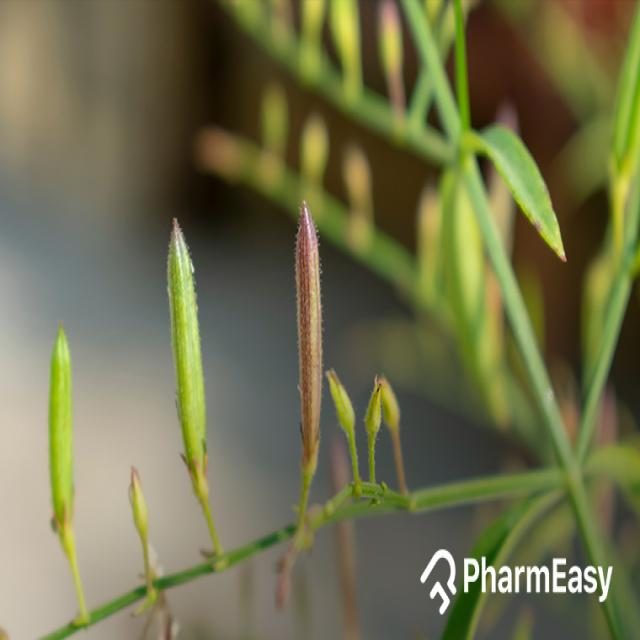Chirata: (242, 58, 544, 524), (44, 247, 387, 542)
